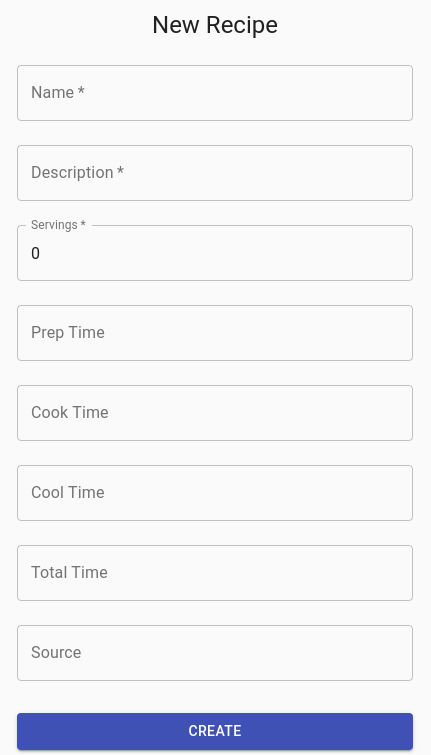
NewRecipe › api validation errors › displays errors
Type "test-name" into the field with placeholder "Name".
click(215, 93); type("test-name")  # box [17,65,413,121]
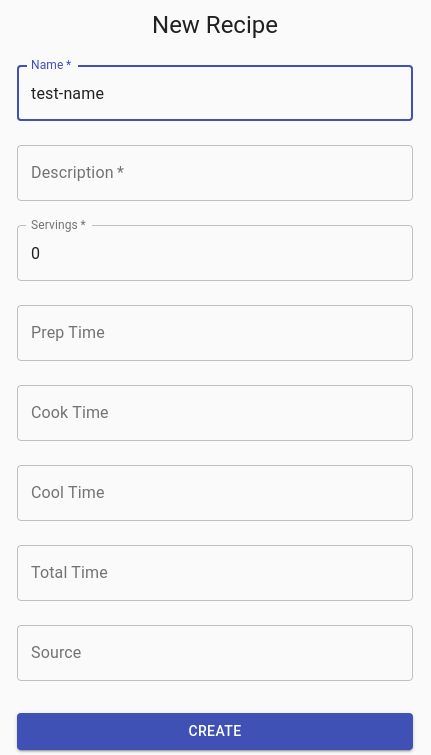
Type "test-description" into the field with placeholder "Description".
click(215, 173); type("test-description")  # box [17,145,413,201]
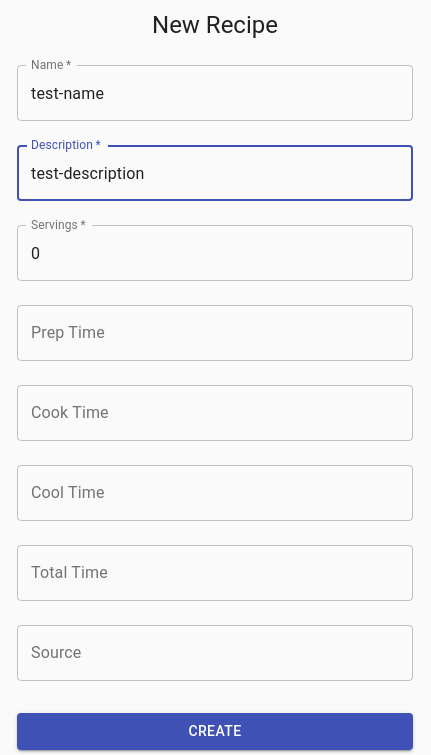
Type "1" into the number field with placeholder "Servings".
click(215, 253); type("1")  # box [17,225,413,281]
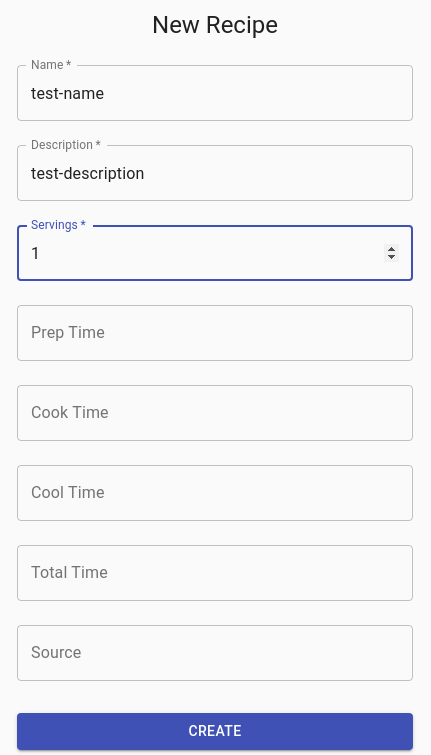
Click the button.
click(215, 731)  # box [17,713,413,750]
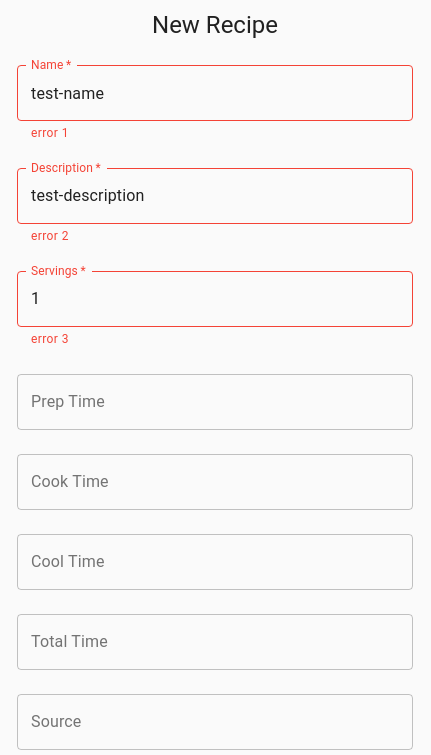
Expected: the text "error 1" is shown, [31,126,69,140]
Expected: the text "error 2" is shown, [31,229,69,243]
Expected: the text "error 3" is shown, [31,332,69,346]
